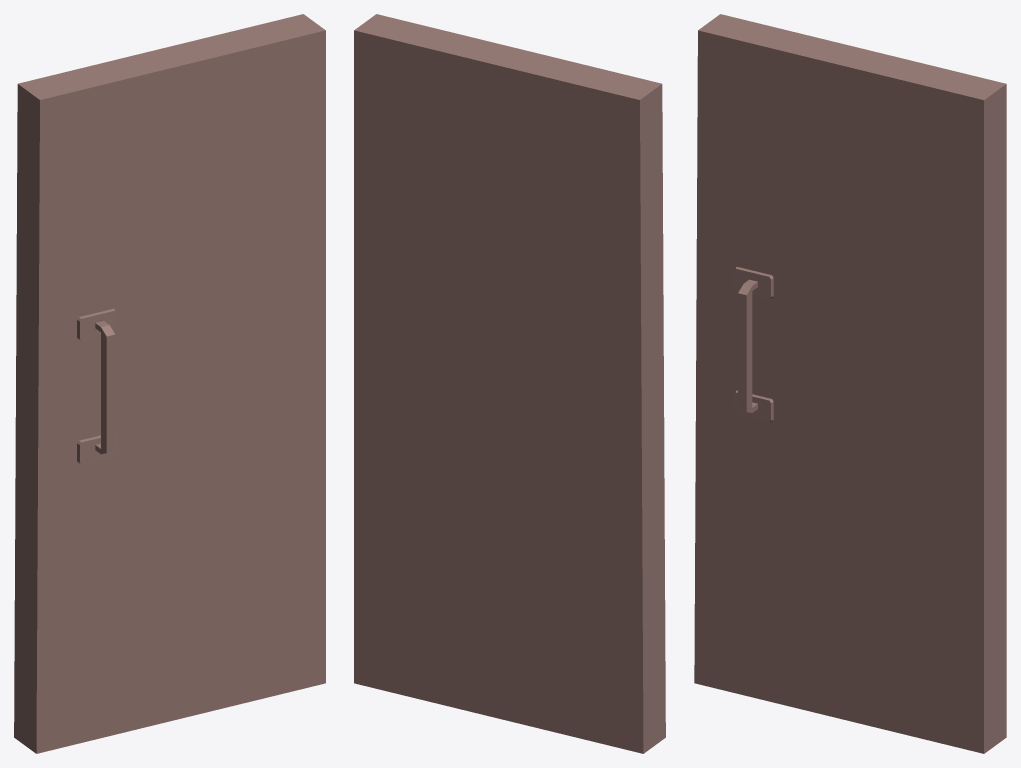
3 views of the same model, side by side, from view 1: azimuth 30°, elevation 25°; view 2: azimuth 150°, elevation 25°; view 3: azimuth 330°, elevation 25° (orthographic).
Parts seen in each view (by area): view 1: SM_H2_D6; view 2: SM_H2_D6; view 3: SM_H2_D6.
Boxes of the visible parts, bbox=[...] form: SM_H2_D6: bbox=[14, 14, 325, 753]; SM_H2_D6: bbox=[354, 14, 665, 753]; SM_H2_D6: bbox=[694, 14, 1006, 753].
Size of the model in its own units: 104 by 22.23 by 224.
Materials: 1 (1 with a texture image).
